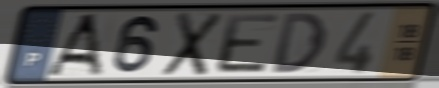4: (331, 9, 379, 77)
6: (111, 13, 162, 76)
A: (44, 12, 105, 78)
D: (270, 11, 329, 76)
E: (214, 11, 283, 75)
X: (158, 10, 226, 79)
